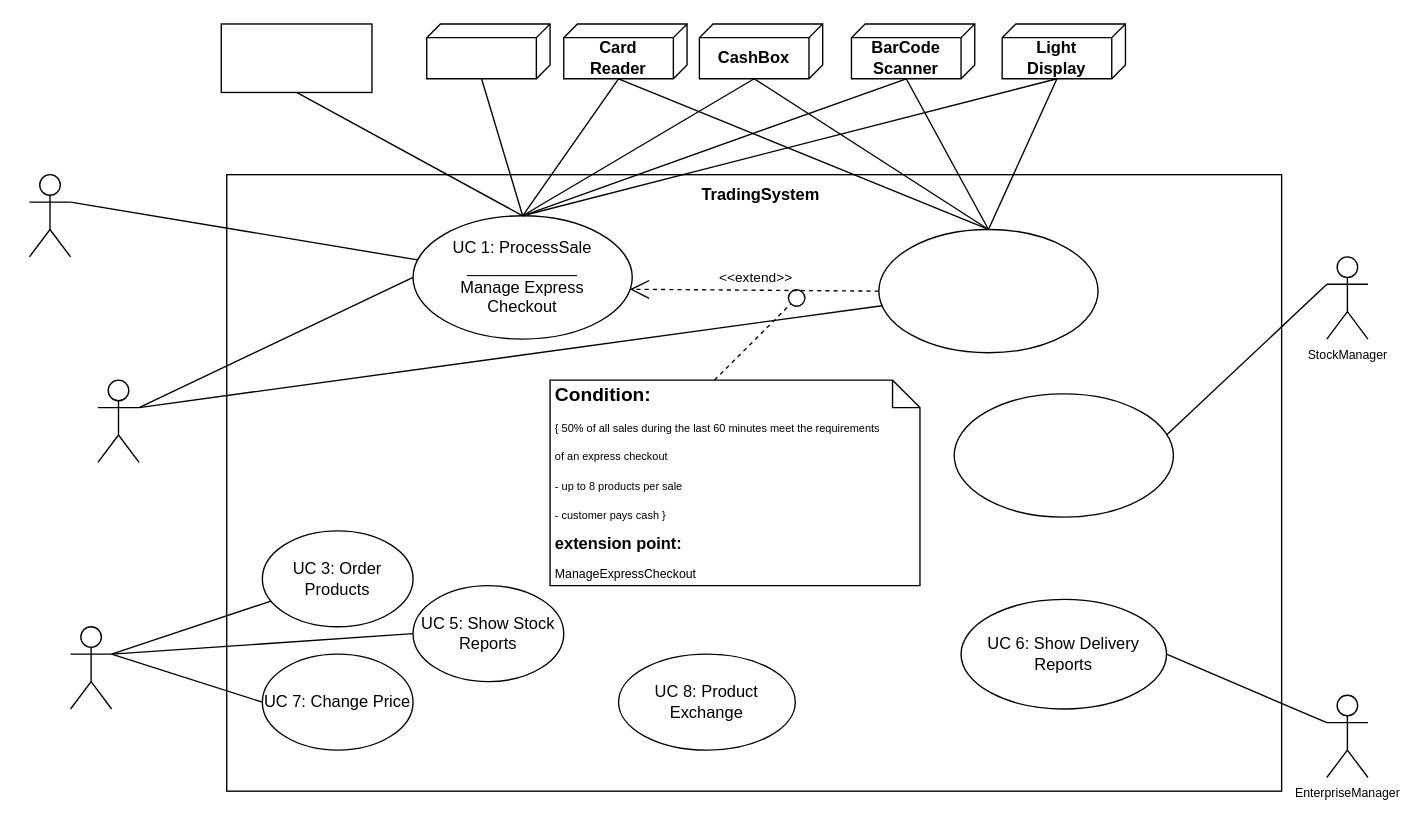
Some shapes in this 1423 by 826 pixel diagram are drawn without their labels. The shapes that lost their labels are listed below. From the top down, each one's centre as x and y in pixels, then its label:
point (296, 57): «system» Bank
point (487, 51): Printer
point (49, 215): Customer
point (987, 290): UC 2: Manage Express Checkout
point (118, 420): Cashier
point (1063, 455): UC 4: Receive Ordered Products
point (90, 667): StoreManager
